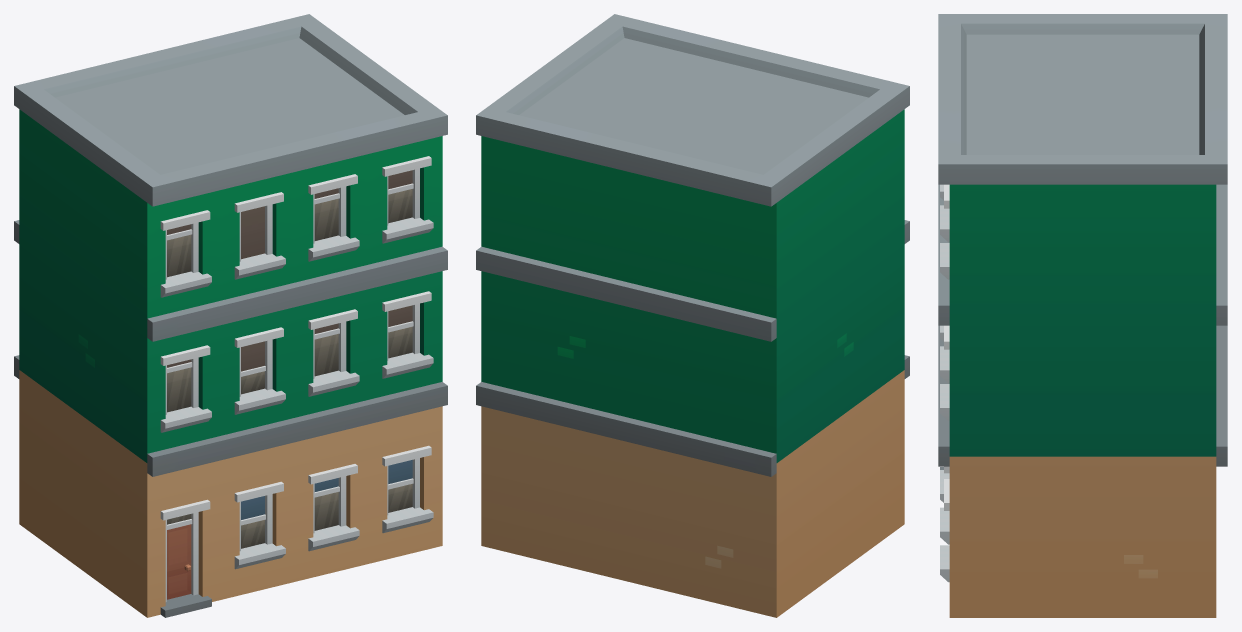
File: shop_d.glb
3 renders of one model, left to right at view 1: azimuth 30°, elevation 25°; view 2: azimuth 150°, elevation 25°; view 3: azimuth 270°, elevation 25°, orthographic. The views are drawn at different scales.
Parts seen in each view (by area): view 1: building_D_withoutBase; view 2: building_D_withoutBase; view 3: building_D_withoutBase.
Part boxes in pixels (box(x1,y1,x2,y2)): building_D_withoutBase: box(14, 14, 447, 617); building_D_withoutBase: box(476, 14, 909, 617); building_D_withoutBase: box(938, 14, 1227, 617).
Bounding box in the file's own units: 1.61 × 2.25 × 1.3.
Materials: 1 (1 with a texture image).
